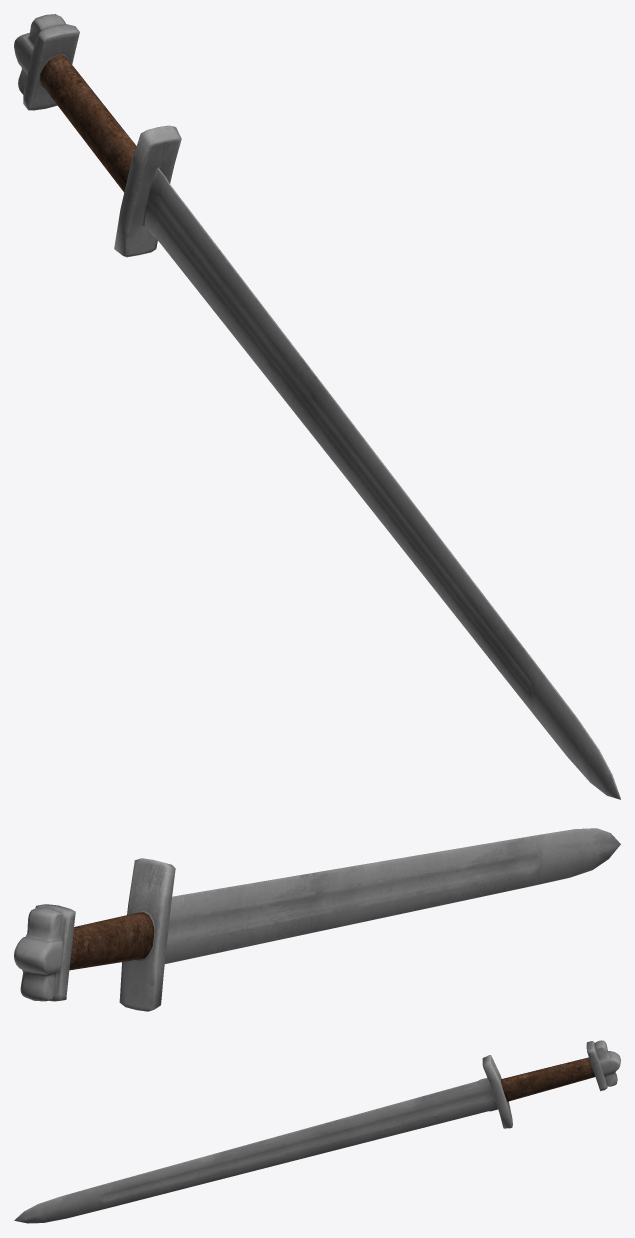
File: whvikingsword.glb
The picture shows the model from 3 angles, top to bottom: view 1: azimuth 30°, elevation 25°; view 2: azimuth 150°, elevation 25°; view 3: azimuth 270°, elevation 25°; orthographic projection. The views are drawn at different scales.
Parts seen in each view (by area): view 1: Object_2; view 2: Object_2; view 3: Object_2.
Part boxes in pixels (left/top/right/bottom): Object_2: left=14, top=14, right=620, bottom=799; Object_2: left=14, top=828, right=620, bottom=1011; Object_2: left=14, top=1040, right=620, bottom=1223.
Size of the model in its own units: 0.0354 by 0.2976 by 0.8931.
1 material, 1 textured.
